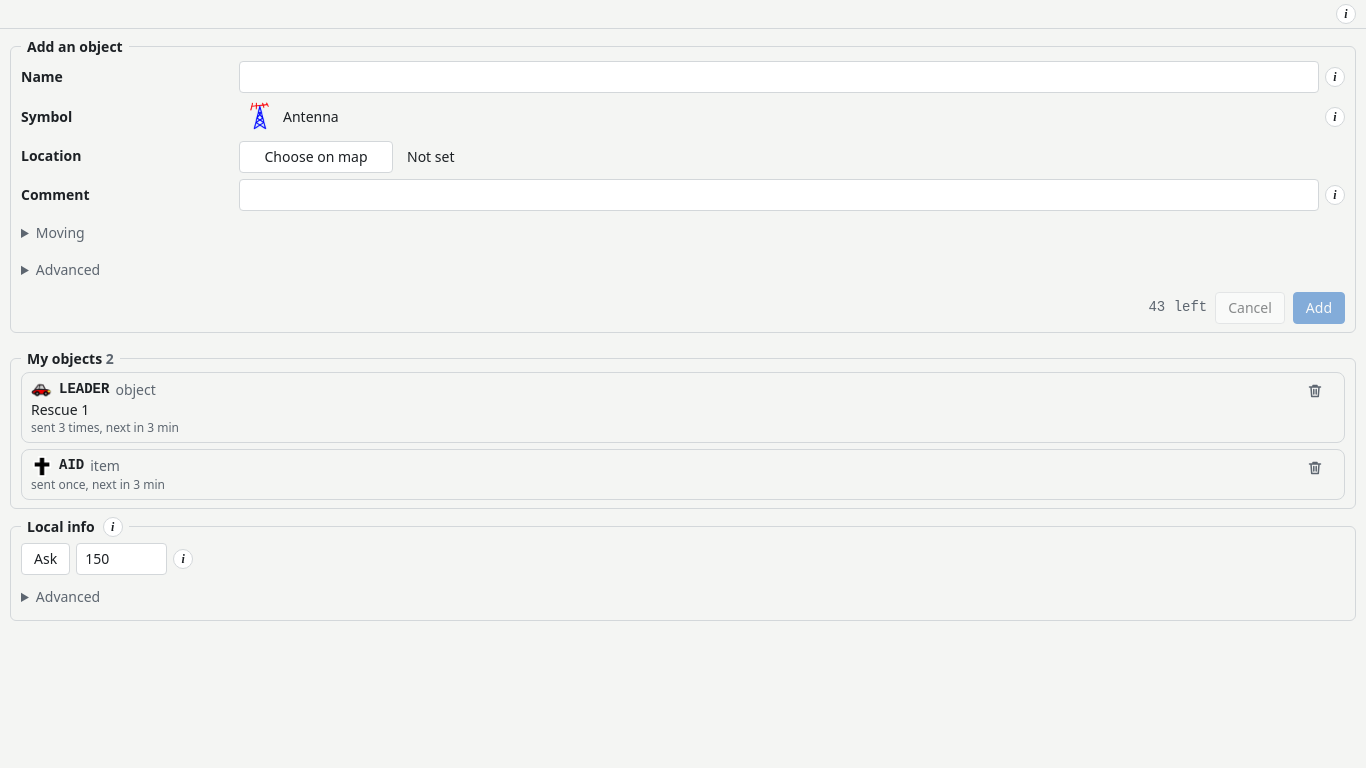
Scenario: ObjectsPane › has Local info as the last group box, in the tab's scroll
Click the button with class "info-toggle" next to "Local info" at [113, 527], box [103, 517, 123, 537]
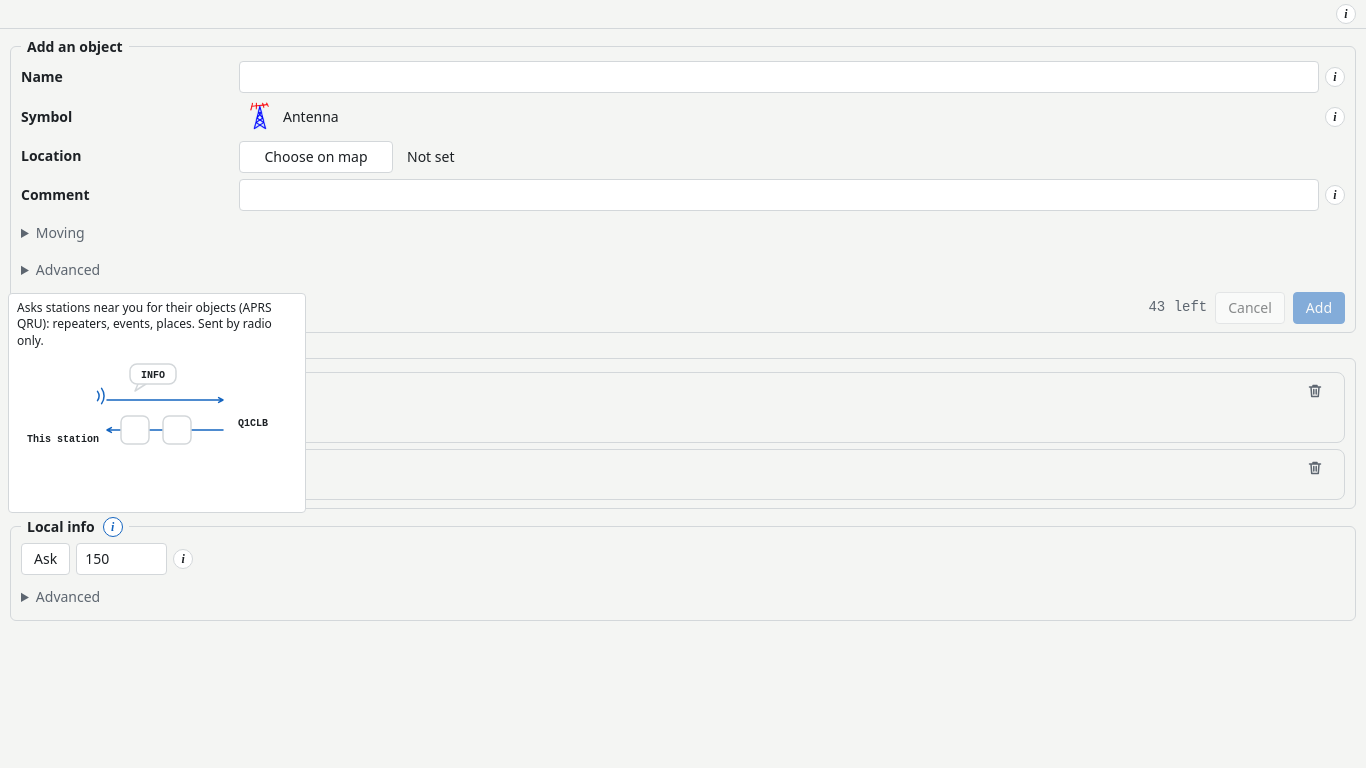
Expected: the button "Ask" is shown, [21, 543, 70, 575]
Result: the text with class "info-line" shows "Asks stations near you for their objects (APRS QRU): repeaters, events, places. Sent by radio only." at [17, 299, 272, 349]
